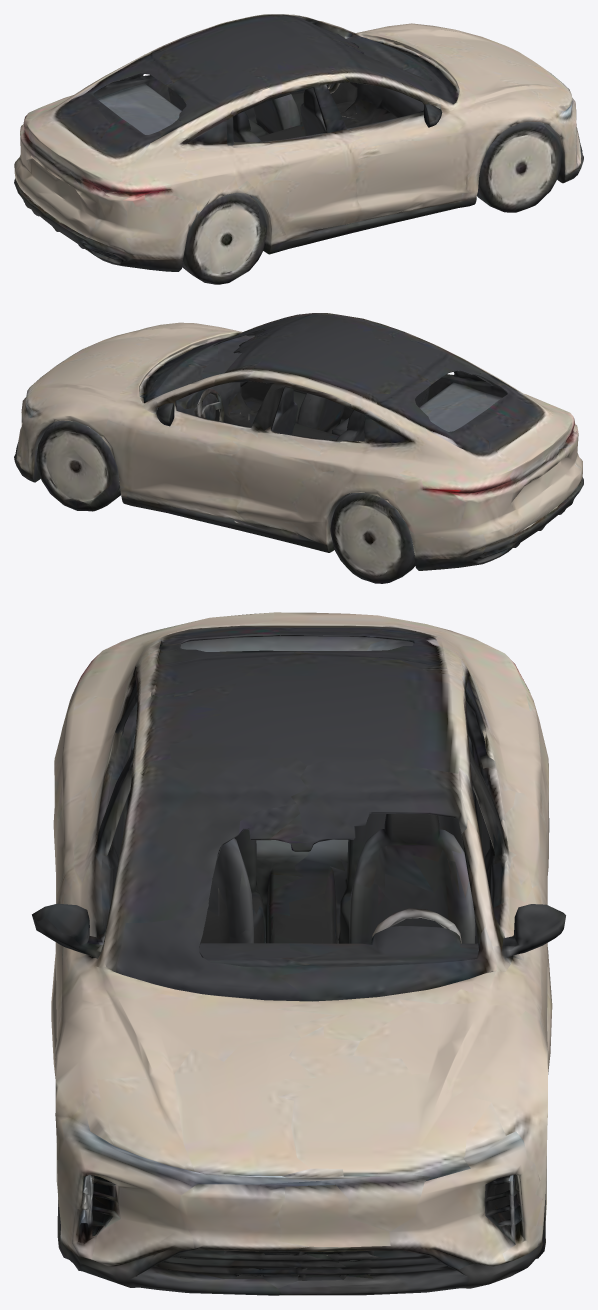
File: prop_COUPE.glb
3 views of the same model, one above another, from view 1: azimuth 30°, elevation 25°; view 2: azimuth 150°, elevation 25°; view 3: azimuth 270°, elevation 25° (orthographic). The views are drawn at different scales.
Size of the model in its own units: 1 by 0.3274 by 0.4597.
Materials: 1 (1 with a texture image).
